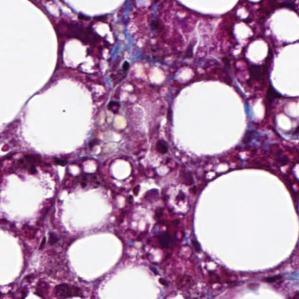inflammation: (146, 224, 181, 253), (152, 138, 172, 156)
